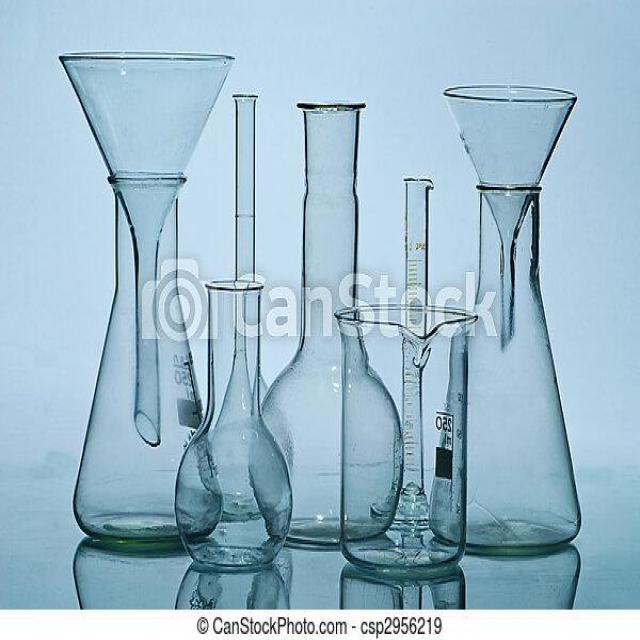non-organic waste: (164, 276, 298, 574), (334, 301, 471, 578)
